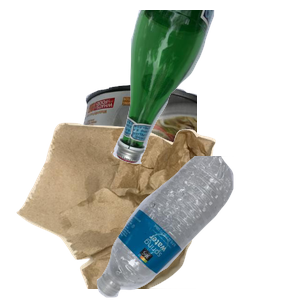glass: (109, 10, 300, 167)
metal: (60, 82, 300, 262)
plastic: (94, 156, 300, 300)
trash: (14, 120, 222, 300)
